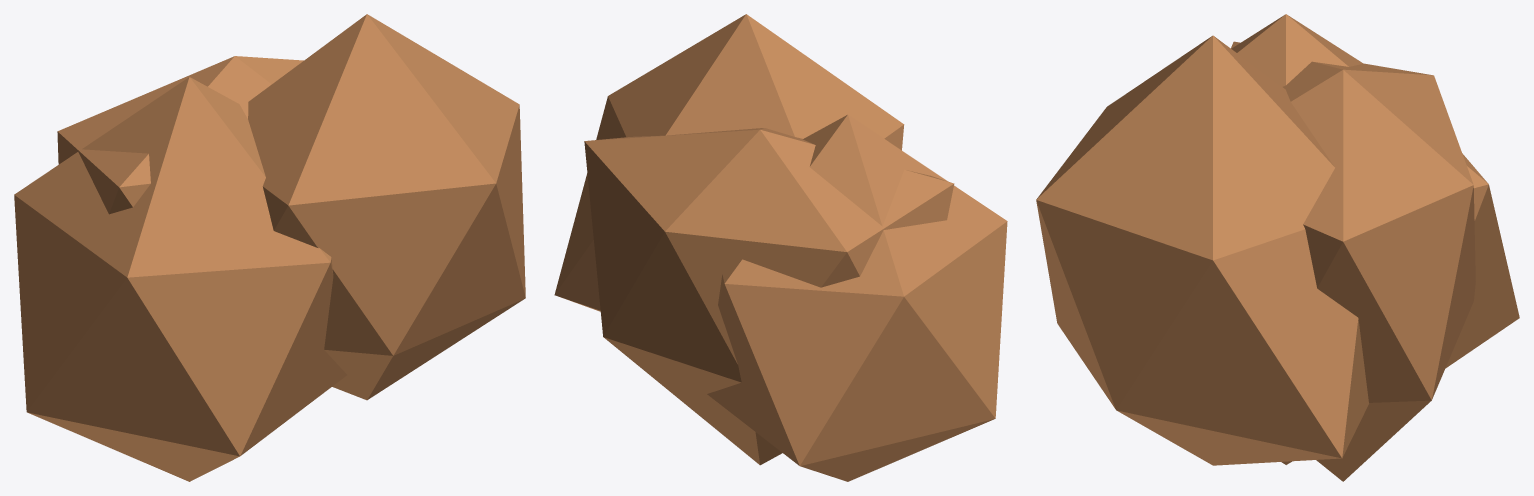
File: Canyon_Rock1.fbx
The picture shows the model from 3 angles, left to right: view 1: azimuth 30°, elevation 25°; view 2: azimuth 150°, elevation 25°; view 3: azimuth 270°, elevation 25°; orthographic projection. The views are drawn at different scales.
Parts seen in each view (by area): view 1: Canyon_Rock1; view 2: Canyon_Rock1; view 3: Canyon_Rock1.
Boxes of the visible parts, box(x1,y1,x2,y2) form: Canyon_Rock1: box(14, 14, 525, 481); Canyon_Rock1: box(554, 14, 1007, 481); Canyon_Rock1: box(1036, 14, 1519, 481).
Bounding box in the file's own units: 2.56 × 2.42 × 2.09.
